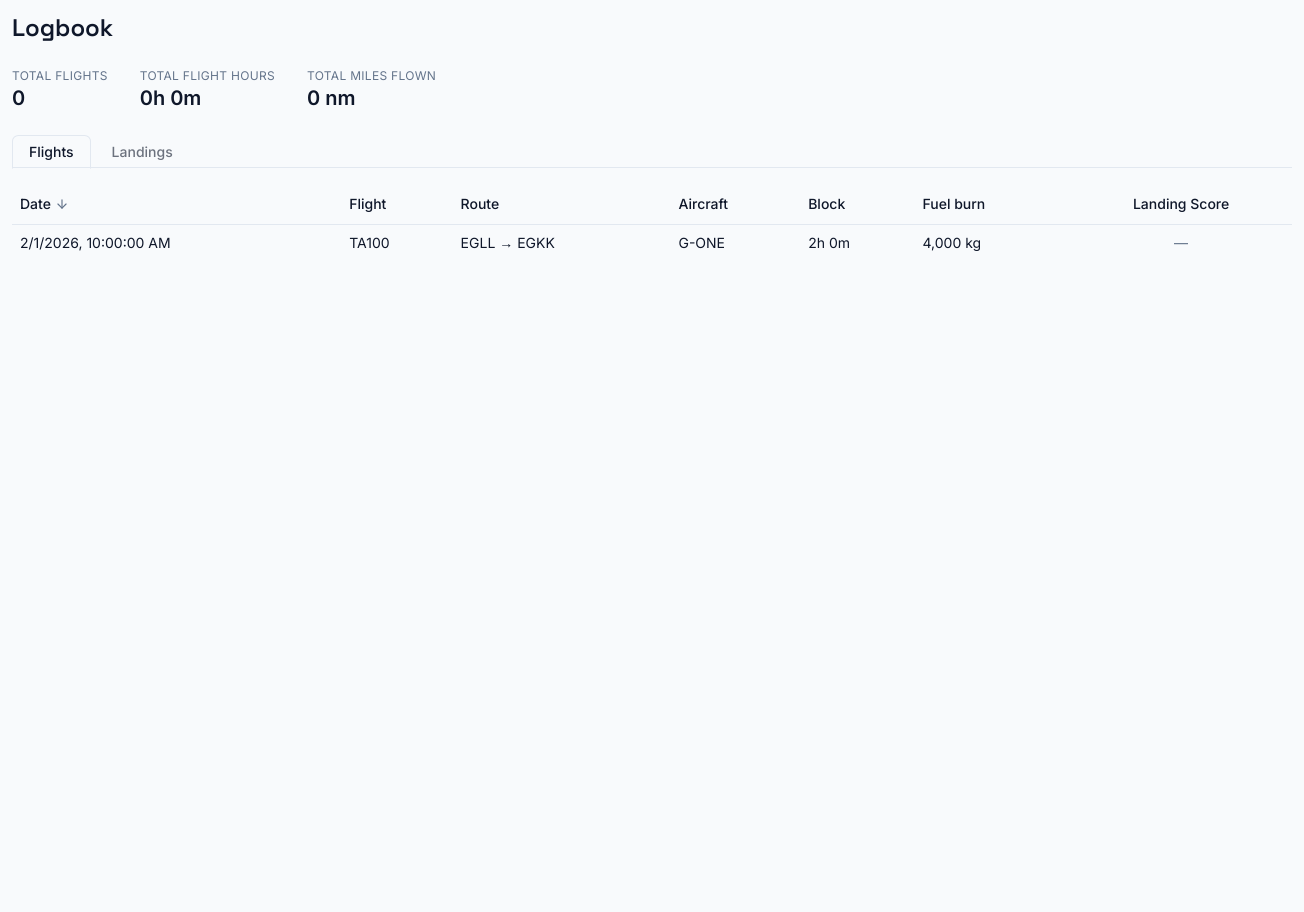
Scenario: LogbookView list › opens a flight's detail when a row is clicked from the Landings sub-tab
The width and height of the screenshot is (1304, 912).
expect the text "TA100" is shown: met, box [349,232,390,252]
Click the tab "Landings".
click(142, 152)  # box [95,135,190,169]
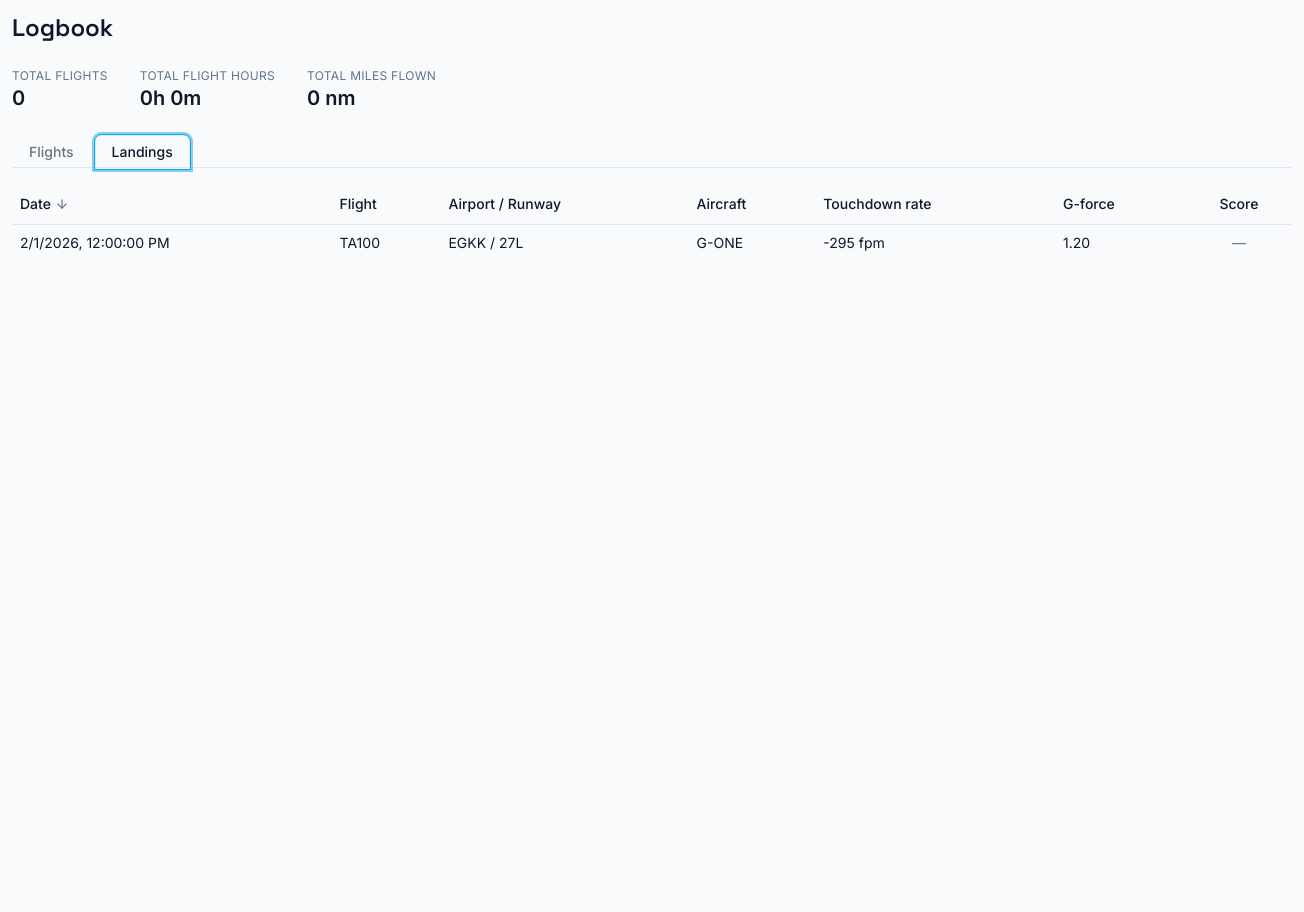
Click the text "TA100".
click(360, 242)  # box [332,224,440,260]
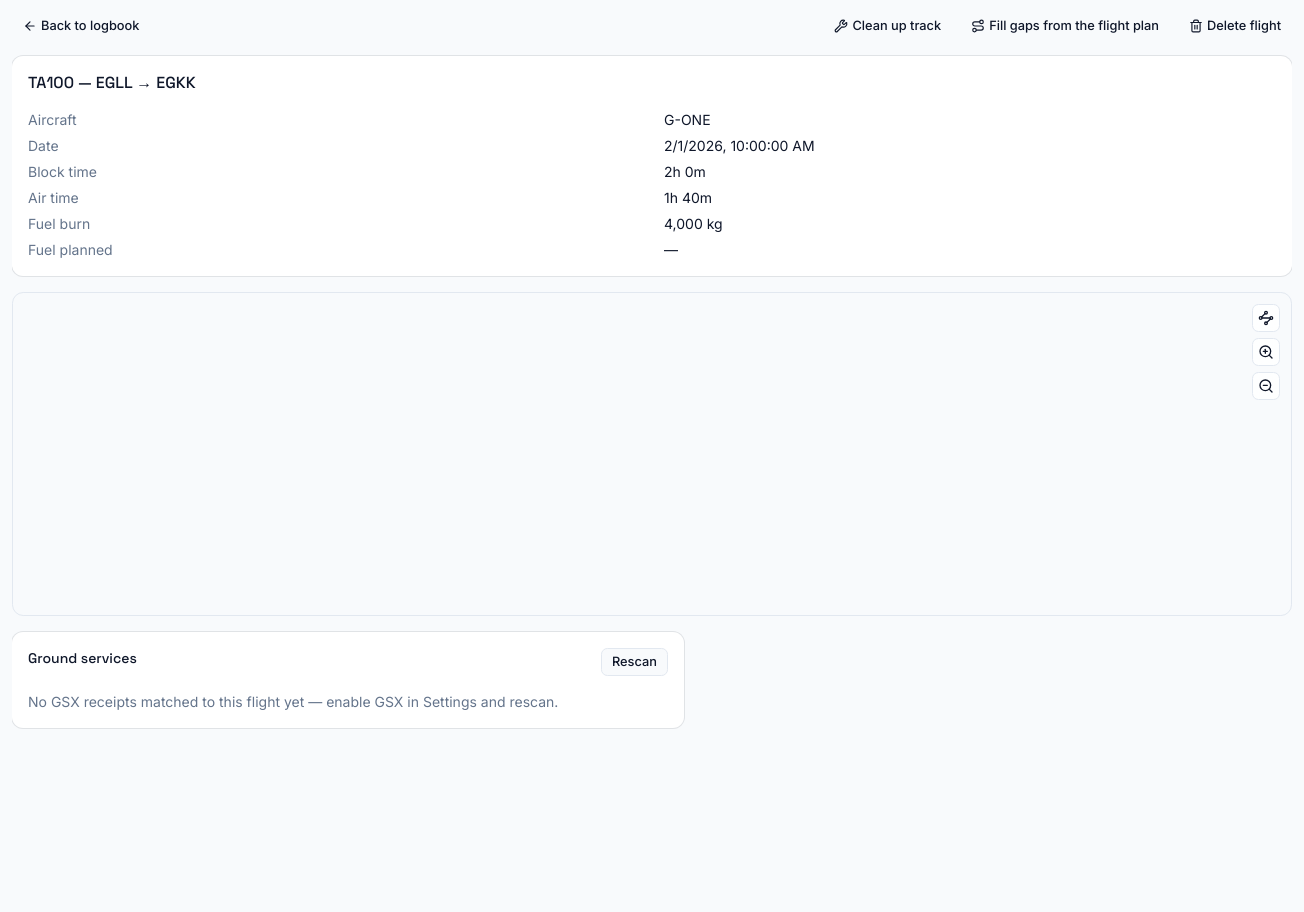
expect the text "TA100 — EGLL → EGKK" is shown: met, box [28,72,196,93]
